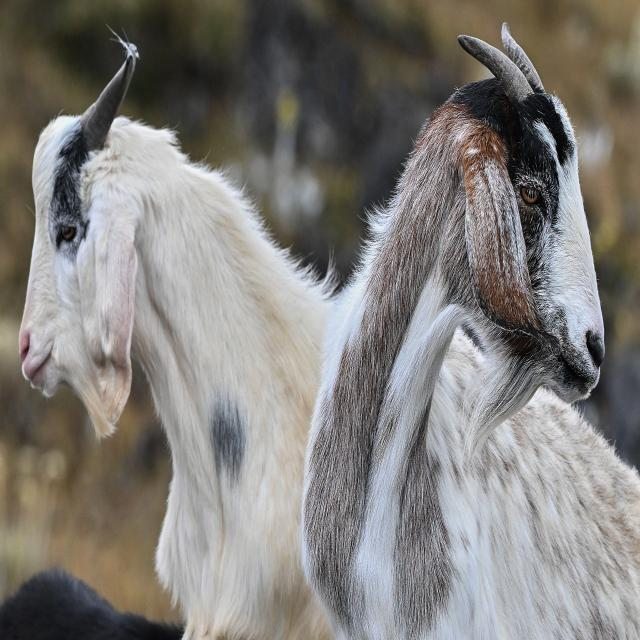Goat: (301, 54, 640, 640), (19, 42, 308, 640)
